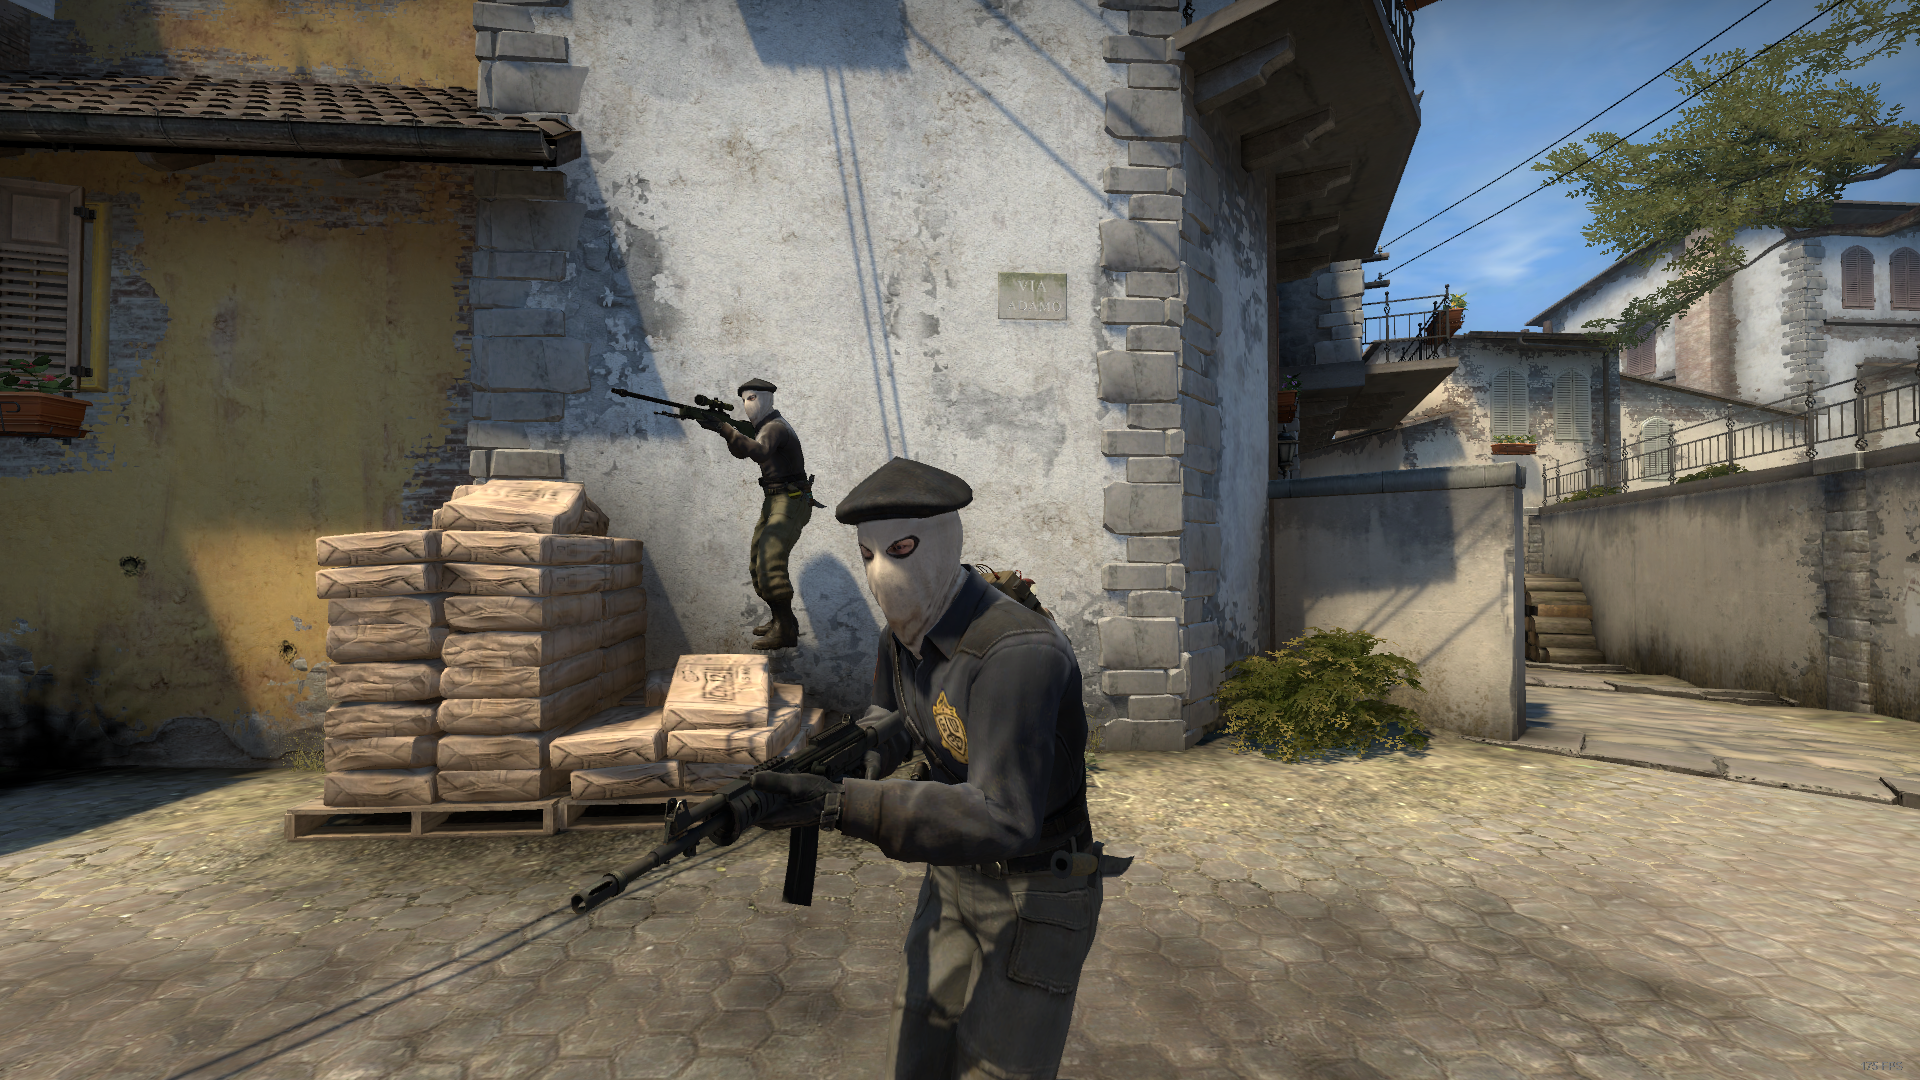t: (752, 454, 1106, 1080), (702, 378, 814, 650)
